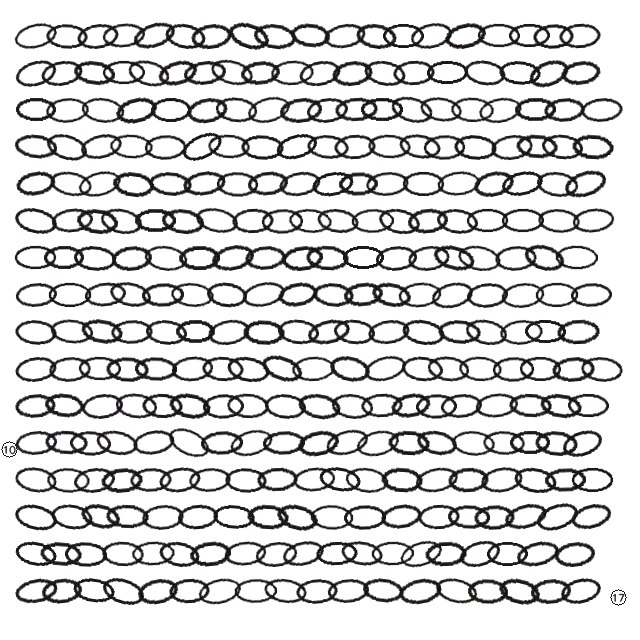chain: (164, 422, 214, 463), (178, 126, 227, 167), (525, 54, 573, 92), (130, 17, 178, 54), (561, 165, 609, 202), (533, 498, 581, 535), (225, 17, 272, 54), (258, 350, 305, 387), (12, 55, 60, 91), (43, 129, 91, 165), (397, 536, 445, 572), (99, 573, 147, 609), (227, 425, 276, 460), (559, 425, 606, 461), (388, 92, 436, 127), (273, 129, 321, 164), (323, 425, 371, 460), (208, 55, 255, 90), (245, 92, 292, 127), (521, 240, 568, 275), (362, 351, 409, 386), (502, 499, 549, 534), (568, 499, 615, 534), (456, 536, 503, 571), (12, 19, 59, 53), (125, 56, 172, 90), (76, 167, 123, 201), (430, 241, 477, 275), (305, 315, 352, 349), (354, 426, 401, 460), (12, 500, 59, 534), (514, 537, 561, 571), (196, 574, 243, 608), (433, 574, 480, 608), (155, 56, 201, 90), (113, 93, 159, 127), (429, 278, 475, 312), (274, 500, 320, 534), (496, 574, 542, 608), (78, 130, 125, 163), (499, 167, 546, 200), (12, 204, 59, 237), (193, 204, 240, 237), (209, 241, 256, 274), (240, 278, 287, 311), (280, 537, 327, 570), (408, 19, 454, 52), (442, 19, 488, 52), (471, 167, 517, 200), (107, 278, 153, 311), (327, 352, 373, 385), (558, 574, 604, 607), (98, 205, 145, 237), (463, 316, 510, 348), (413, 464, 460, 496), (78, 500, 123, 533), (322, 20, 368, 52), (297, 57, 343, 89), (362, 57, 408, 89), (477, 94, 523, 126), (48, 168, 94, 200), (310, 168, 356, 200), (376, 205, 422, 237), (456, 242, 502, 274), (400, 316, 446, 348), (225, 353, 271, 385), (296, 390, 342, 422), (94, 427, 140, 459), (295, 427, 341, 459), (414, 427, 460, 459), (512, 464, 558, 496), (13, 538, 59, 570), (13, 575, 59, 607), (135, 575, 181, 607), (397, 575, 443, 607), (163, 20, 208, 52), (39, 57, 84, 89), (185, 94, 230, 126), (277, 168, 322, 200), (369, 279, 414, 311), (206, 316, 251, 348), (157, 538, 202, 570), (418, 94, 464, 125), (181, 168, 227, 199), (317, 464, 363, 495), (339, 538, 385, 569), (71, 575, 117, 606), (462, 57, 507, 88), (397, 131, 442, 162), (79, 316, 124, 347), (167, 390, 212, 421), (131, 427, 176, 458), (13, 464, 58, 495), (157, 464, 202, 495), (479, 464, 524, 495), (49, 501, 94, 532), (379, 501, 424, 532), (80, 95, 126, 125), (489, 132, 535, 162), (143, 243, 189, 273), (500, 280, 546, 310), (366, 317, 412, 347), (344, 465, 390, 495), (262, 576, 308, 606), (14, 168, 58, 199), (276, 279, 320, 310), (389, 390, 433, 421), (75, 21, 120, 51), (189, 21, 234, 51), (252, 21, 297, 51), (354, 21, 399, 51), (182, 58, 227, 88), (330, 58, 375, 88), (278, 95, 323, 125), (535, 169, 580, 199), (160, 206, 205, 236), (315, 206, 360, 236), (435, 206, 480, 236), (406, 243, 451, 273), (13, 354, 58, 384), (538, 391, 583, 421), (254, 539, 299, 569), (397, 280, 443, 309), (72, 58, 116, 88), (559, 58, 603, 88), (305, 95, 349, 125), (111, 169, 155, 199), (75, 206, 119, 236), (280, 243, 324, 273), (80, 391, 124, 421), (330, 391, 374, 421), (72, 465, 116, 495), (553, 539, 597, 569), (101, 21, 146, 50), (214, 95, 259, 124), (13, 132, 58, 161), (436, 169, 481, 198), (571, 206, 616, 235), (49, 317, 94, 346), (276, 317, 321, 346), (426, 354, 471, 383), (474, 391, 519, 420), (292, 465, 337, 494), (223, 539, 268, 568), (540, 132, 584, 161), (246, 169, 290, 198), (50, 206, 94, 235), (406, 206, 450, 235), (83, 280, 127, 309), (205, 280, 249, 309), (332, 317, 376, 346), (170, 354, 214, 383), (400, 354, 444, 383), (114, 391, 158, 420), (176, 502, 220, 531), (188, 539, 232, 568), (40, 576, 84, 605), (361, 576, 405, 605), (45, 96, 90, 124), (72, 244, 117, 272), (374, 244, 419, 272), (451, 429, 496, 457), (289, 21, 332, 50), (342, 280, 385, 309), (43, 391, 86, 420), (498, 59, 542, 87), (580, 96, 624, 124), (306, 133, 350, 161), (453, 133, 497, 161), (148, 170, 192, 198), (365, 170, 409, 198), (288, 207, 332, 235), (537, 207, 581, 235), (110, 244, 154, 272), (14, 281, 58, 309), (170, 281, 214, 309), (465, 281, 509, 309), (144, 318, 188, 346), (437, 318, 481, 346), (499, 318, 543, 346), (48, 355, 92, 383), (551, 355, 595, 383), (263, 392, 307, 420), (439, 392, 483, 420), (14, 429, 58, 457), (534, 429, 578, 457), (188, 466, 232, 494), (212, 503, 256, 531), (295, 577, 339, 605), (326, 577, 370, 605), (529, 577, 573, 605), (450, 96, 495, 123), (291, 355, 336, 382), (239, 59, 282, 87), (543, 96, 586, 124), (244, 244, 287, 272), (494, 244, 537, 272), (312, 281, 355, 309), (14, 318, 57, 346), (580, 355, 623, 383), (14, 392, 57, 420), (100, 466, 143, 494), (141, 503, 184, 531), (39, 540, 82, 568), (270, 59, 314, 86), (334, 96, 378, 123), (109, 133, 153, 160), (207, 133, 251, 160), (367, 133, 411, 160), (305, 244, 349, 271), (556, 318, 600, 345), (458, 355, 502, 382), (226, 392, 270, 419), (508, 392, 552, 419), (44, 429, 88, 456), (105, 503, 149, 530), (417, 503, 461, 530), (101, 540, 145, 567), (131, 540, 175, 567), (315, 540, 359, 567), (558, 22, 601, 49), (392, 59, 435, 86), (333, 133, 376, 160), (515, 133, 558, 160), (571, 133, 614, 160), (231, 207, 274, 234), (201, 355, 244, 382), (141, 392, 184, 419), (360, 392, 403, 419), (387, 429, 430, 456), (256, 466, 299, 493), (380, 466, 423, 493), (447, 466, 490, 493), (246, 503, 289, 530), (424, 540, 467, 567), (168, 577, 211, 604), (45, 23, 89, 49), (240, 134, 284, 160), (110, 319, 154, 345), (105, 356, 149, 382), (482, 430, 526, 456), (46, 467, 90, 493), (310, 504, 354, 530), (532, 23, 575, 49), (144, 134, 187, 160), (423, 134, 466, 160), (216, 171, 259, 197), (351, 208, 394, 234), (141, 282, 184, 308), (570, 282, 613, 308), (242, 319, 285, 345), (134, 356, 177, 382), (492, 356, 535, 382), (69, 430, 112, 456), (200, 430, 243, 456), (262, 430, 305, 456), (129, 467, 172, 493), (224, 467, 267, 493), (343, 504, 386, 530), (447, 504, 490, 530), (473, 504, 516, 530), (64, 541, 107, 567), (234, 578, 277, 604), (48, 282, 92, 307), (535, 282, 579, 307), (261, 208, 303, 234), (202, 393, 244, 419), (415, 393, 457, 419), (544, 467, 586, 493), (467, 578, 509, 604), (382, 23, 425, 48), (477, 23, 520, 48), (102, 60, 145, 85), (426, 60, 469, 85), (360, 97, 403, 122), (402, 171, 445, 196), (466, 208, 509, 233), (501, 208, 544, 233), (14, 245, 57, 270), (342, 245, 385, 270), (555, 245, 598, 270), (524, 319, 567, 344), (78, 356, 121, 381), (571, 467, 614, 492), (371, 541, 414, 566), (338, 171, 379, 197), (508, 23, 550, 48), (15, 97, 57, 122), (150, 97, 192, 122), (514, 97, 556, 122), (134, 208, 176, 233), (43, 245, 85, 270), (178, 245, 220, 270), (519, 356, 561, 381), (567, 393, 609, 418), (509, 430, 551, 455), (486, 541, 528, 566), (175, 319, 216, 344)
noise: (608, 587, 628, 607), (0, 439, 19, 459)
